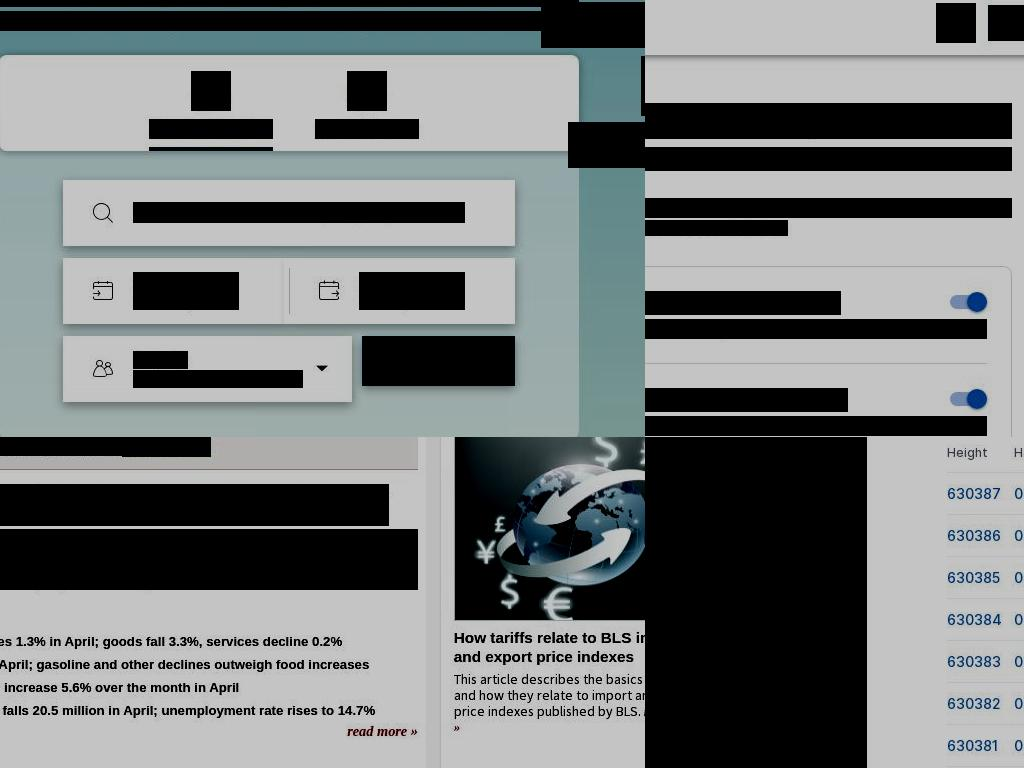button: (645, 473, 867, 513), (645, 513, 867, 553), (645, 553, 867, 593), (645, 593, 867, 633), (645, 633, 867, 673), (645, 673, 867, 713), (645, 713, 867, 753), (645, 437, 867, 473), (362, 336, 515, 386), (541, 2, 645, 48), (568, 122, 645, 168), (645, 753, 867, 768), (122, 437, 211, 457), (936, 3, 976, 43), (988, 5, 1024, 41), (347, 722, 418, 740), (947, 485, 1015, 502), (947, 527, 1015, 544), (947, 569, 1015, 586), (947, 611, 1015, 628), (947, 653, 1015, 670), (947, 695, 1015, 712), (947, 737, 1015, 754)
field: (133, 202, 465, 223)
heading: (0, 484, 389, 526), (0, 11, 579, 31), (0, 630, 401, 654), (0, 653, 401, 677), (0, 676, 401, 700), (0, 699, 401, 723), (453, 628, 645, 665), (203, 628, 443, 646), (0, 0, 579, 7), (149, 119, 273, 139), (315, 119, 419, 139)
image: (203, 437, 449, 619), (453, 437, 645, 619), (191, 71, 231, 111), (347, 71, 387, 111), (944, 11, 968, 35), (149, 147, 273, 151)
link: (453, 703, 645, 734), (277, 684, 342, 700)
text: (0, 529, 418, 590), (645, 103, 1012, 139), (203, 650, 447, 701), (453, 669, 645, 720), (645, 147, 1012, 171), (645, 198, 1012, 218), (645, 319, 987, 339), (645, 416, 987, 436), (645, 388, 848, 412), (645, 291, 841, 315), (133, 370, 303, 388), (0, 437, 123, 456), (645, 220, 788, 236), (133, 272, 239, 293), (359, 272, 465, 293), (695, 444, 815, 462), (695, 484, 815, 502), (695, 524, 815, 542), (695, 564, 815, 582), (695, 604, 815, 622), (695, 644, 815, 662), (695, 684, 815, 702), (695, 724, 815, 742), (133, 292, 239, 310), (359, 292, 465, 310), (402, 348, 475, 373), (554, 17, 645, 33), (581, 137, 645, 153), (133, 351, 188, 369), (947, 445, 989, 460), (695, 764, 815, 768), (1014, 445, 1024, 460)
